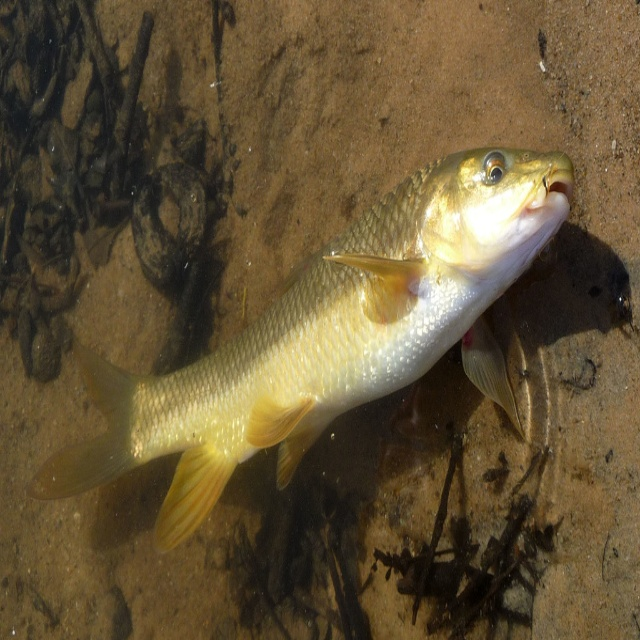Fish: (26, 146, 576, 557)
